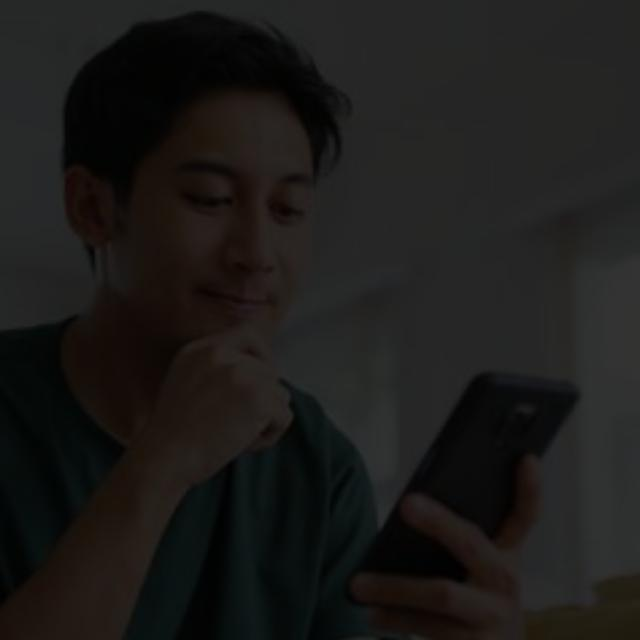Natural: (53, 50, 376, 410)
